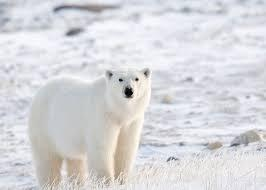bear: (24, 63, 156, 189)
